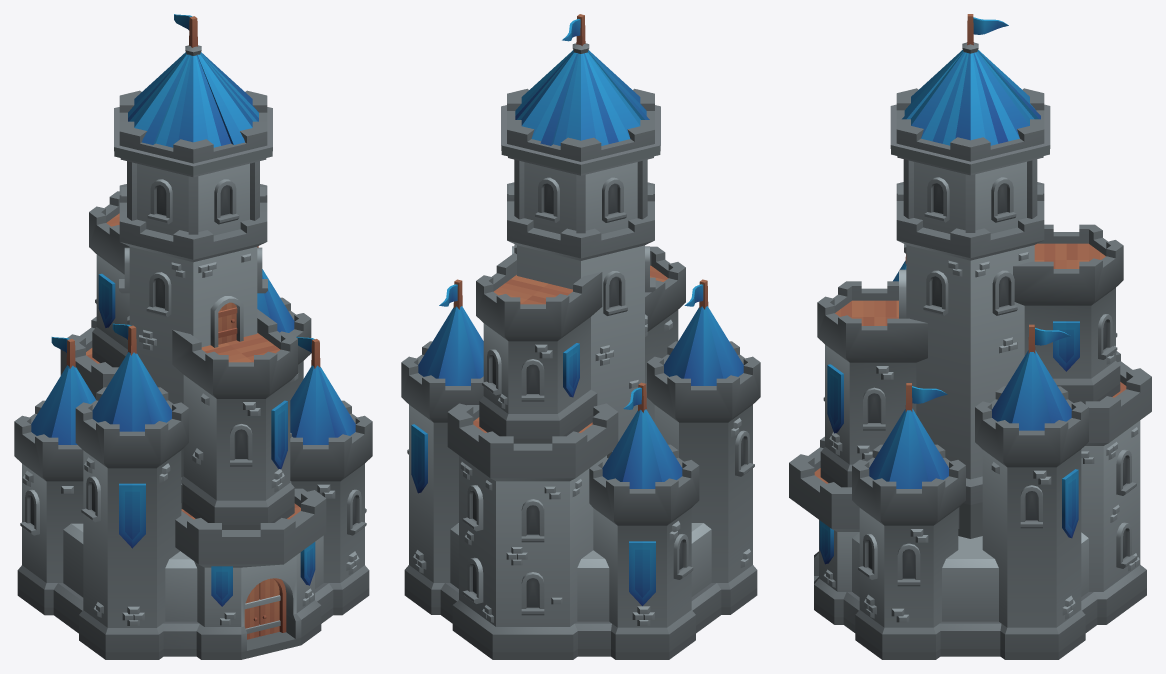
Rendered from building_castle_blue.gltf.
The picture shows the model from 3 angles, left to right: view 1: azimuth 30°, elevation 25°; view 2: azimuth 150°, elevation 25°; view 3: azimuth 270°, elevation 25°; orthographic projection.
Parts seen in each view (by area): view 1: building_castle_blue; view 2: building_castle_blue; view 3: building_castle_blue.
Boxes of the visible parts, left/top/right/bottom form: building_castle_blue: left=14, top=14, right=372, bottom=659; building_castle_blue: left=401, top=14, right=760, bottom=659; building_castle_blue: left=789, top=14, right=1151, bottom=659.
Bounding box in the file's own units: 1.98 × 3.98 × 2.26.
1 material, 1 textured.
